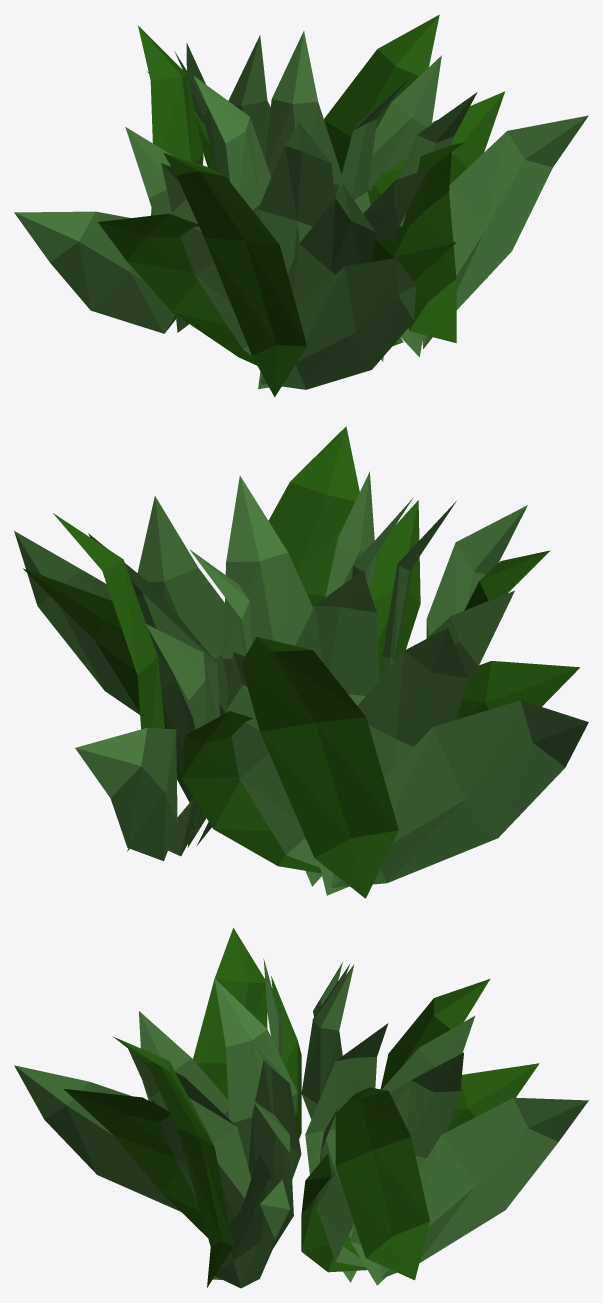
Rendered from herb.gltf.
The picture shows the model from 3 angles, top to bottom: view 1: azimuth 30°, elevation 25°; view 2: azimuth 150°, elevation 25°; view 3: azimuth 270°, elevation 25°; orthographic projection. The views are drawn at different scales.
Size of the model in its own units: 152 by 74 by 152.
1 material, 1 textured.
